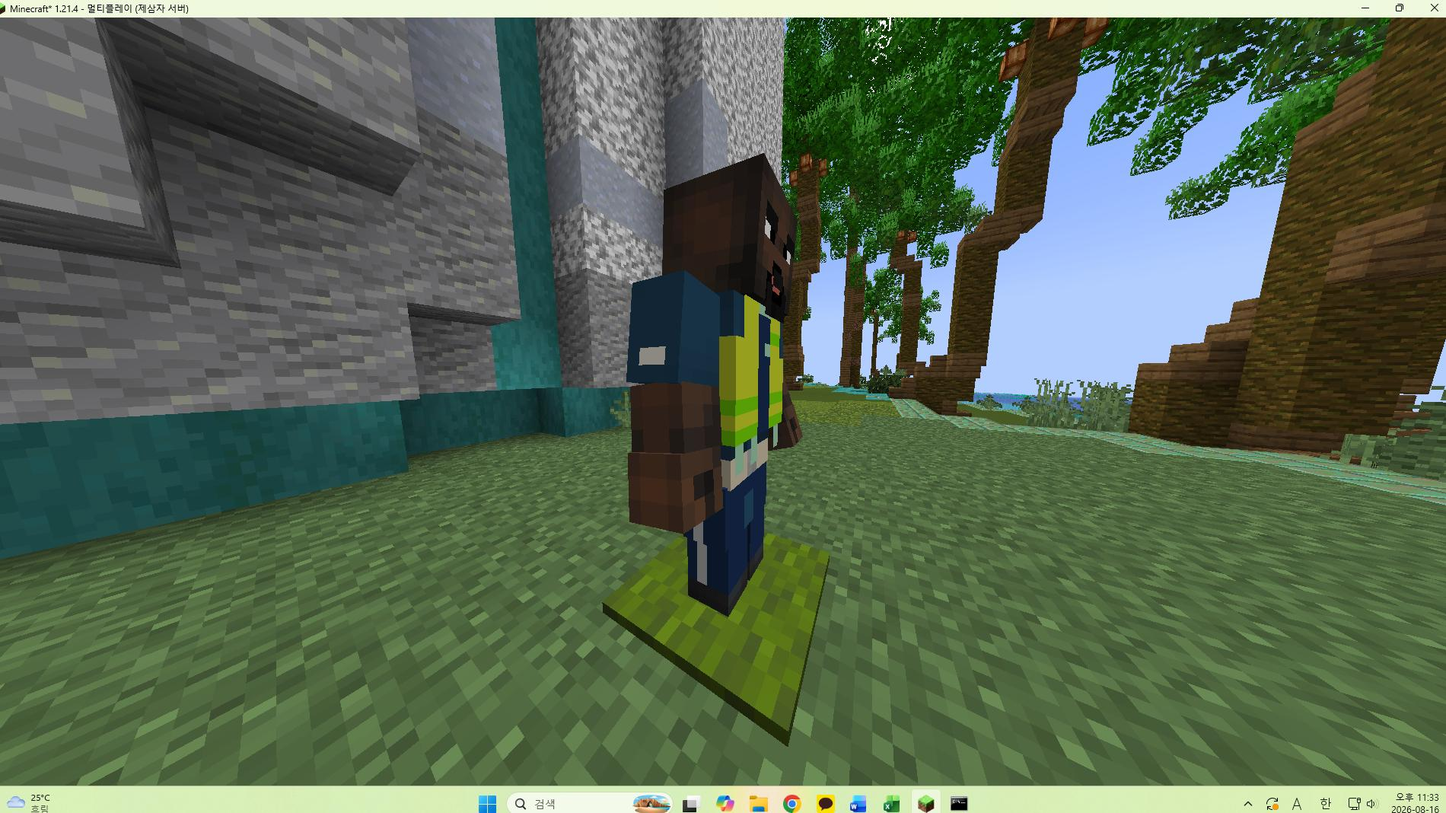Guardian: (626, 155, 799, 615)
